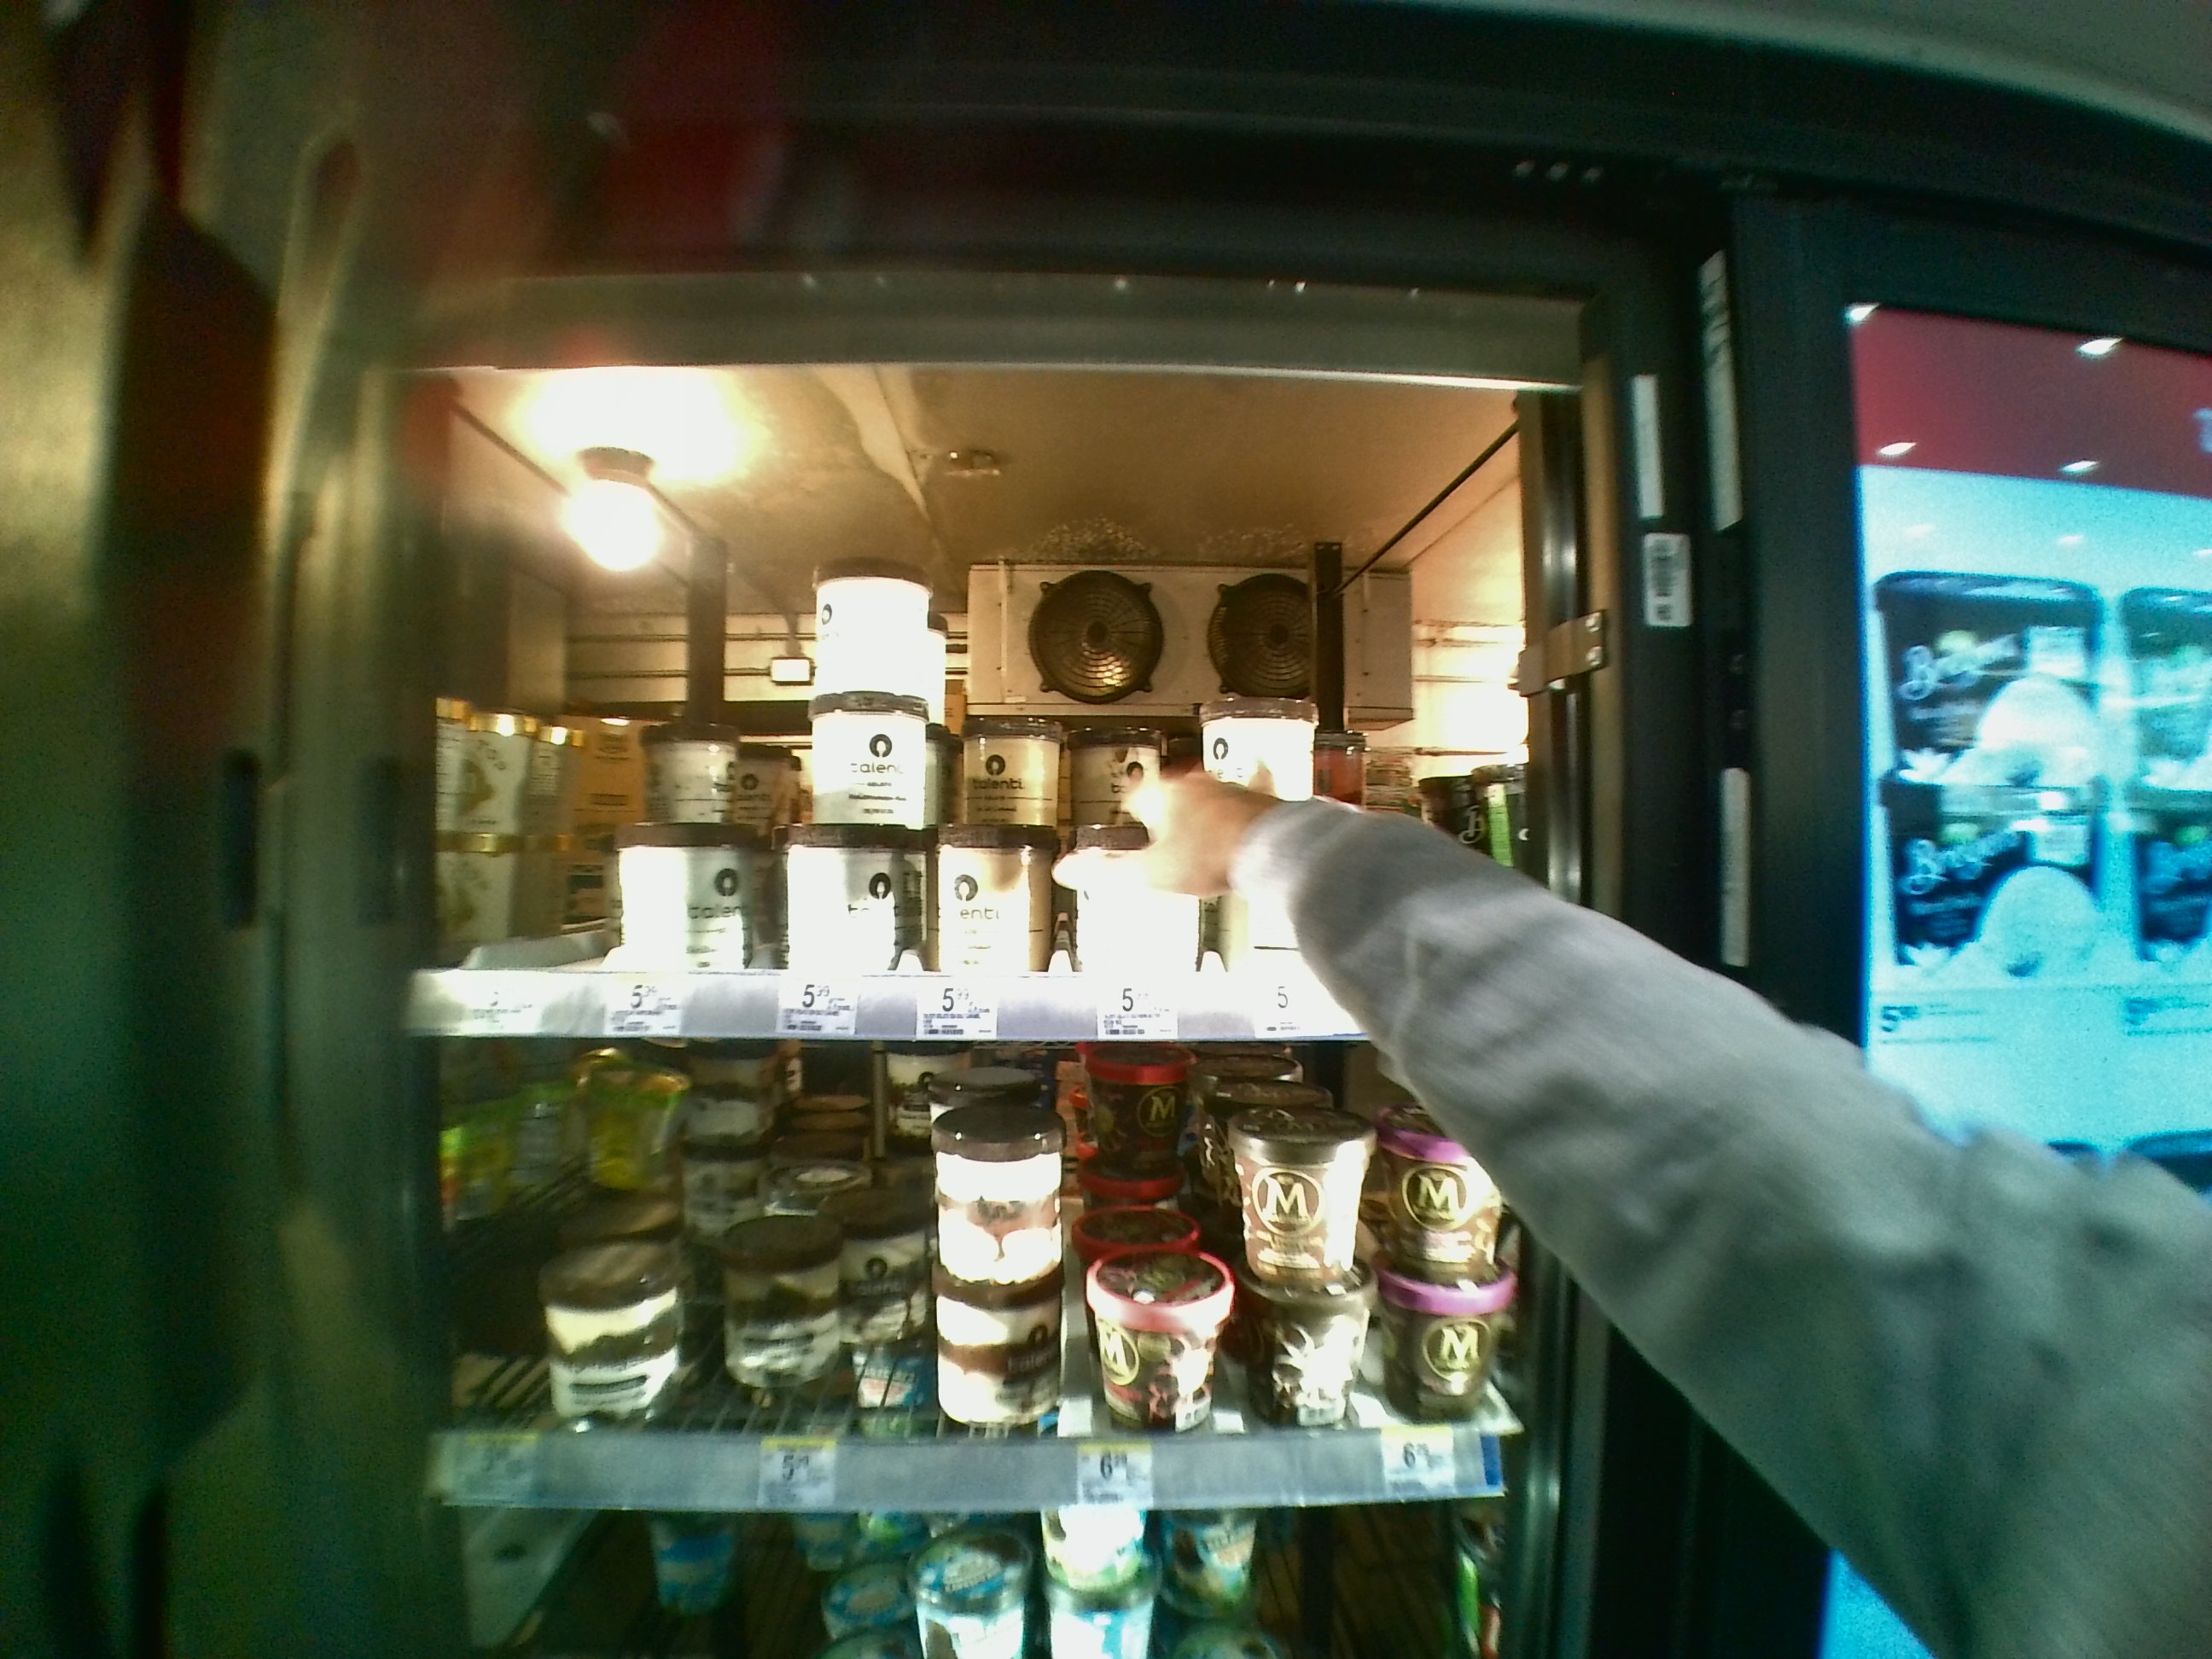shelf: (404, 415, 1514, 1030), (425, 1047, 1524, 1513)
